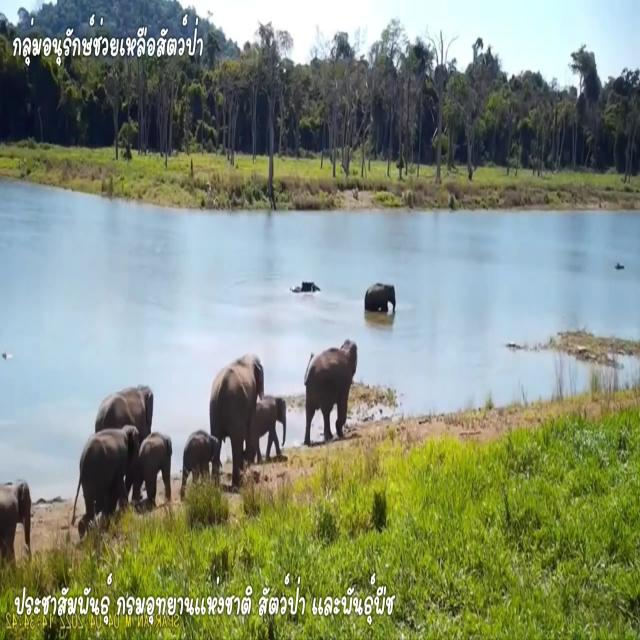Elephant: (212, 341, 264, 465), (304, 333, 359, 439), (77, 425, 142, 511), (99, 378, 156, 439), (0, 475, 41, 559), (139, 426, 179, 501), (251, 386, 292, 456), (183, 428, 220, 486), (361, 271, 401, 319)
